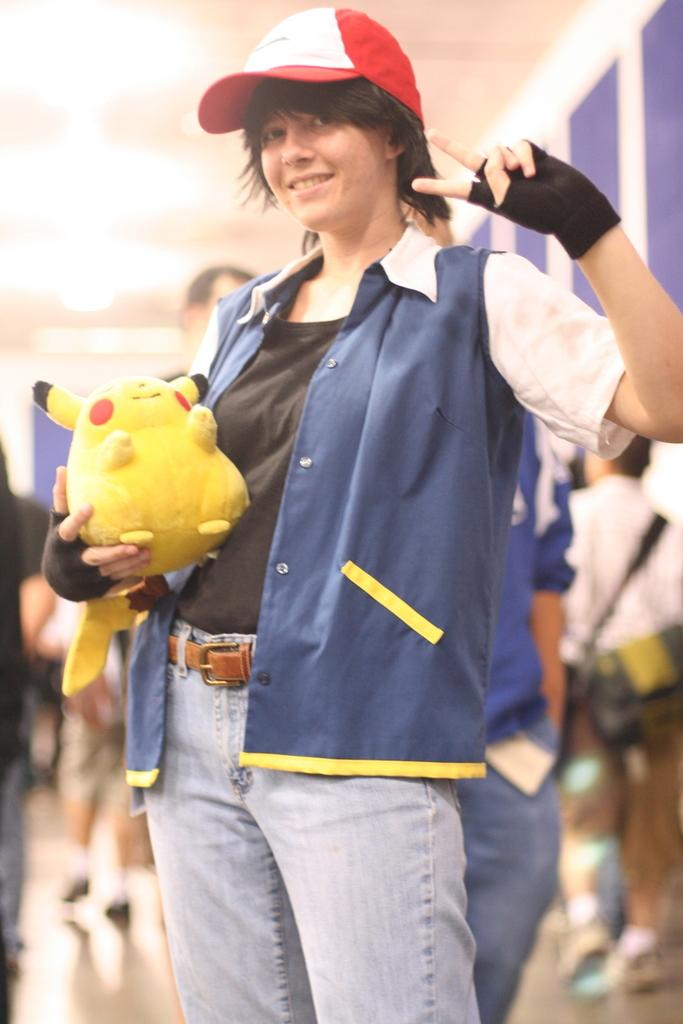Hat: (196, 3, 426, 137)
